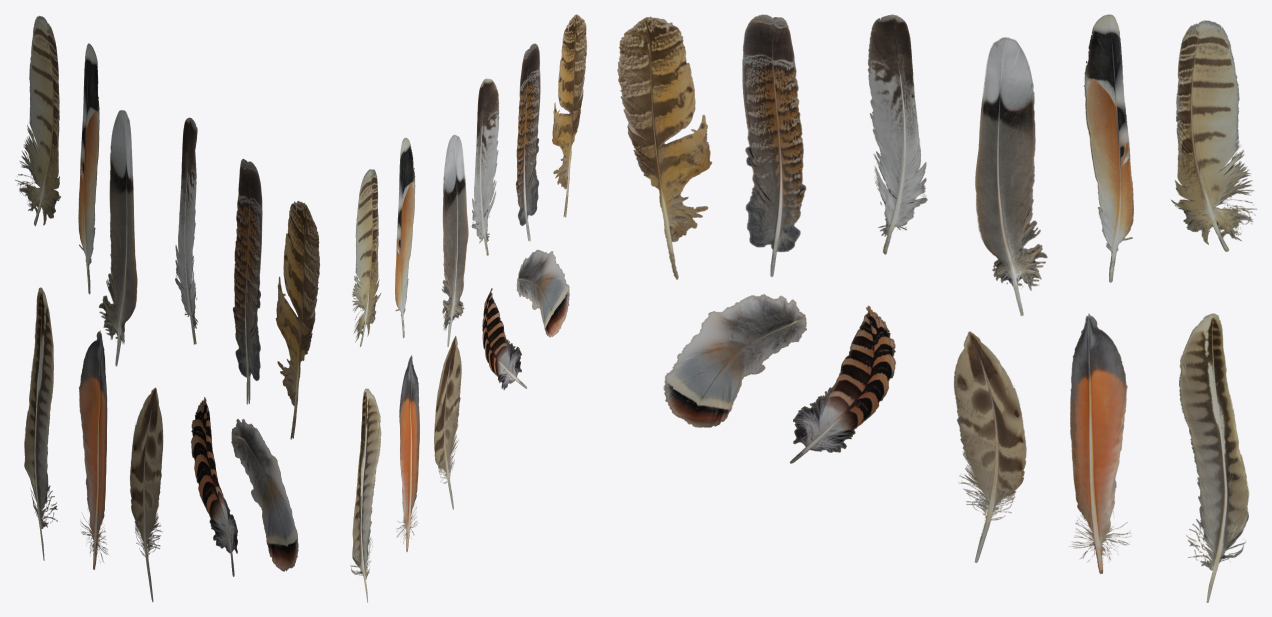
File: bird_feathers_atlas.glb
3 renders of one model, left to right at view 1: azimuth 30°, elevation 25°; view 2: azimuth 150°, elevation 25°; view 3: azimuth 270°, elevation 25°, orthographic. The views are drawn at different scales.
Parts seen in each view (by area): view 1: feather_007, feather_001, feather_000, feather_010, feather_002, feather_003, feather_006, feather_004, feather_008, feather_005, feather_009; view 2: feather_000, feather_001, feather_010, feather_007, feather_002, feather_009, feather_006, feather_003, feather_004, feather_008, feather_005; view 3: feather_001, feather_000, feather_007, feather_010, feather_002, feather_006, feather_003, feather_004, feather_009, feather_008, feather_005.
Boxes of the visible parts, <box> form: feather_007: <box>15,15,61,226</box>; feather_001: <box>275,201,319,439</box>; feather_000: <box>99,110,137,366</box>; feather_010: <box>233,159,262,404</box>; feather_002: <box>24,287,57,560</box>; feather_003: <box>79,330,108,569</box>; feather_006: <box>231,419,298,571</box>; feather_004: <box>130,387,163,601</box>; feather_008: <box>78,43,99,294</box>; feather_005: <box>191,397,237,576</box>; feather_009: <box>175,117,197,344</box>; feather_000: <box>441,134,468,346</box>; feather_001: <box>552,14,587,217</box>; feather_010: <box>516,43,540,241</box>; feather_007: <box>352,169,381,346</box>; feather_002: <box>350,388,381,602</box>; feather_009: <box>471,78,499,255</box>; feather_006: <box>516,250,569,337</box>; feather_003: <box>396,355,419,551</box>; feather_004: <box>434,336,461,509</box>; feather_008: <box>395,137,415,337</box>; feather_005: <box>482,288,526,390</box>; feather_001: <box>617,16,712,279</box>; feather_000: <box>975,37,1047,315</box>; feather_007: <box>1171,20,1256,251</box>; feather_010: <box>742,14,806,276</box>; feather_002: <box>1179,313,1249,602</box>; feather_006: <box>663,294,806,427</box>; feather_003: <box>1069,313,1131,573</box>; feather_004: <box>954,331,1026,562</box>; feather_009: <box>867,14,927,254</box>; feather_008: <box>1084,14,1133,282</box>; feather_005: <box>790,305,895,463</box>.
Size of the model in its own units: 0.0503 by 0.9265 by 0.9145.
Materials: 1 (1 with a texture image).
